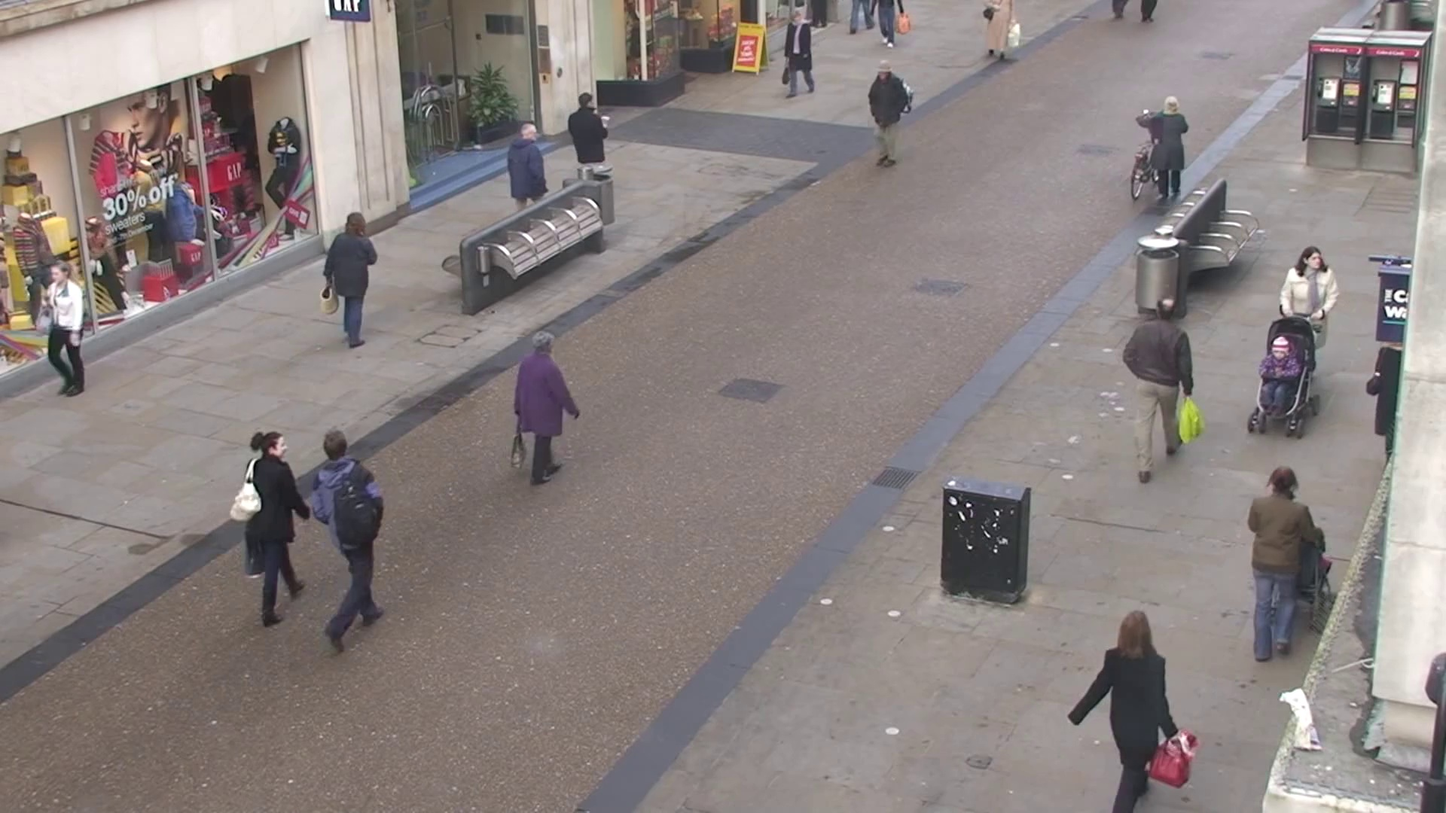person: (1067, 610, 1177, 813), (302, 428, 386, 655), (1245, 465, 1327, 663), (236, 431, 307, 629), (1121, 301, 1197, 480), (514, 333, 579, 485), (323, 211, 379, 349), (1280, 247, 1340, 375), (36, 257, 90, 397), (1257, 318, 1312, 426), (1143, 96, 1190, 207), (867, 65, 913, 167), (505, 120, 551, 206), (567, 91, 611, 174), (1302, 248, 1339, 344), (781, 4, 817, 99)
